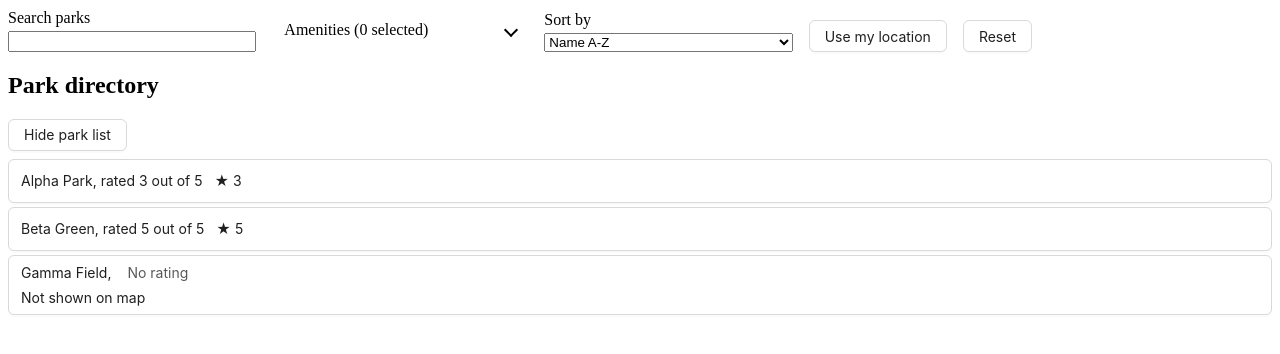
SearchBar › use my location › words messages by the sort in use (rating)
Click the button "Use my location".
click(878, 36)  # box [809,20,947,52]
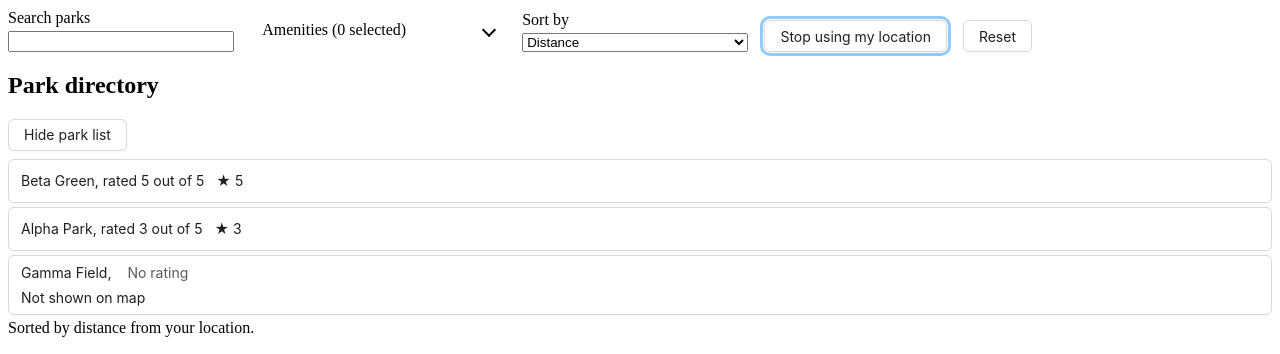
Expected: the button "Stop using my location" is shown, [764,20,947,52]
Select "Rating high-low" in the dropdown labelled "Sort by" at (635, 42), box [522,33,748,52]
Wait 600 ms
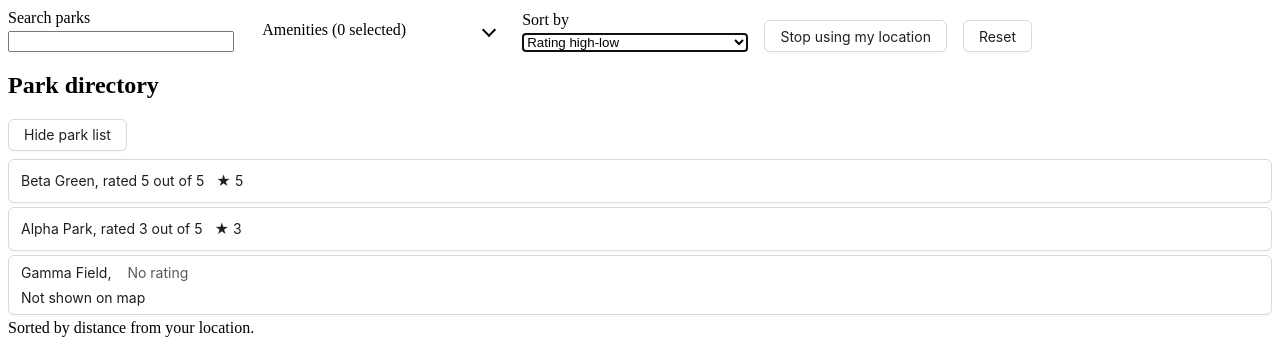
Click the button "Stop using my location".
click(856, 36)  # box [764,20,947,52]
Wait 1600 ms
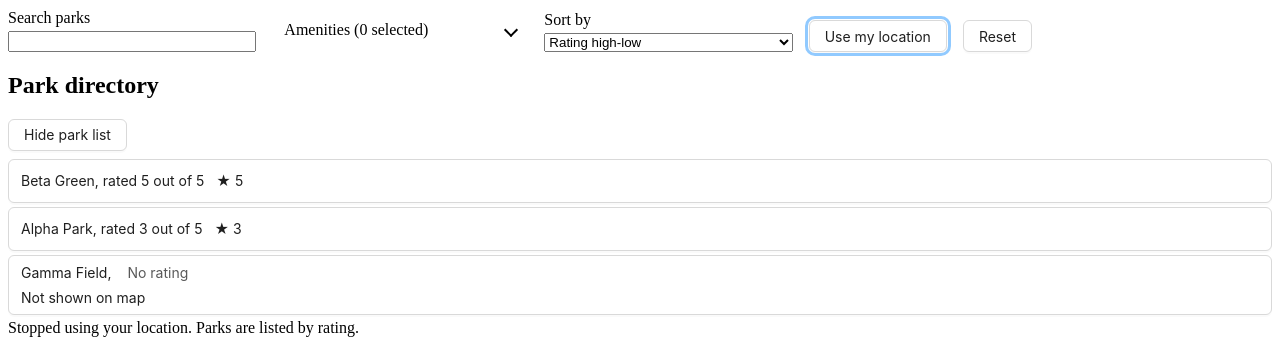
Expected: the message shows "Parks are listed by rating.", [8,319,359,336]
